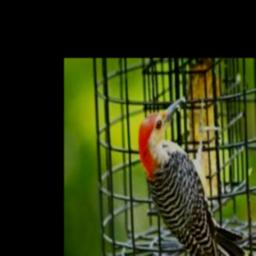Woodpecker: (138, 95, 245, 256)
